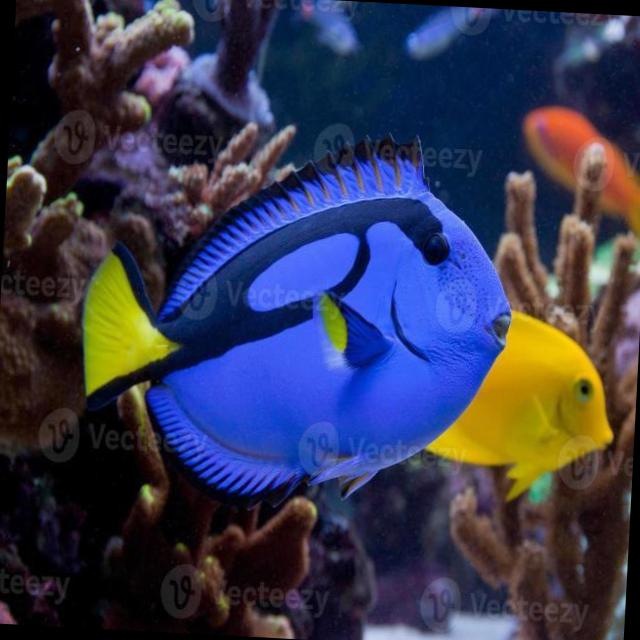TangFish: (69, 137, 522, 510)
